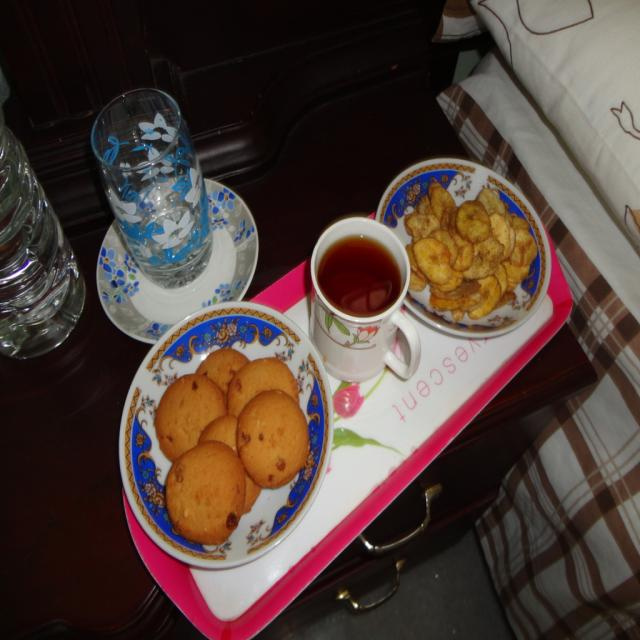Tea: (320, 238, 398, 320)
